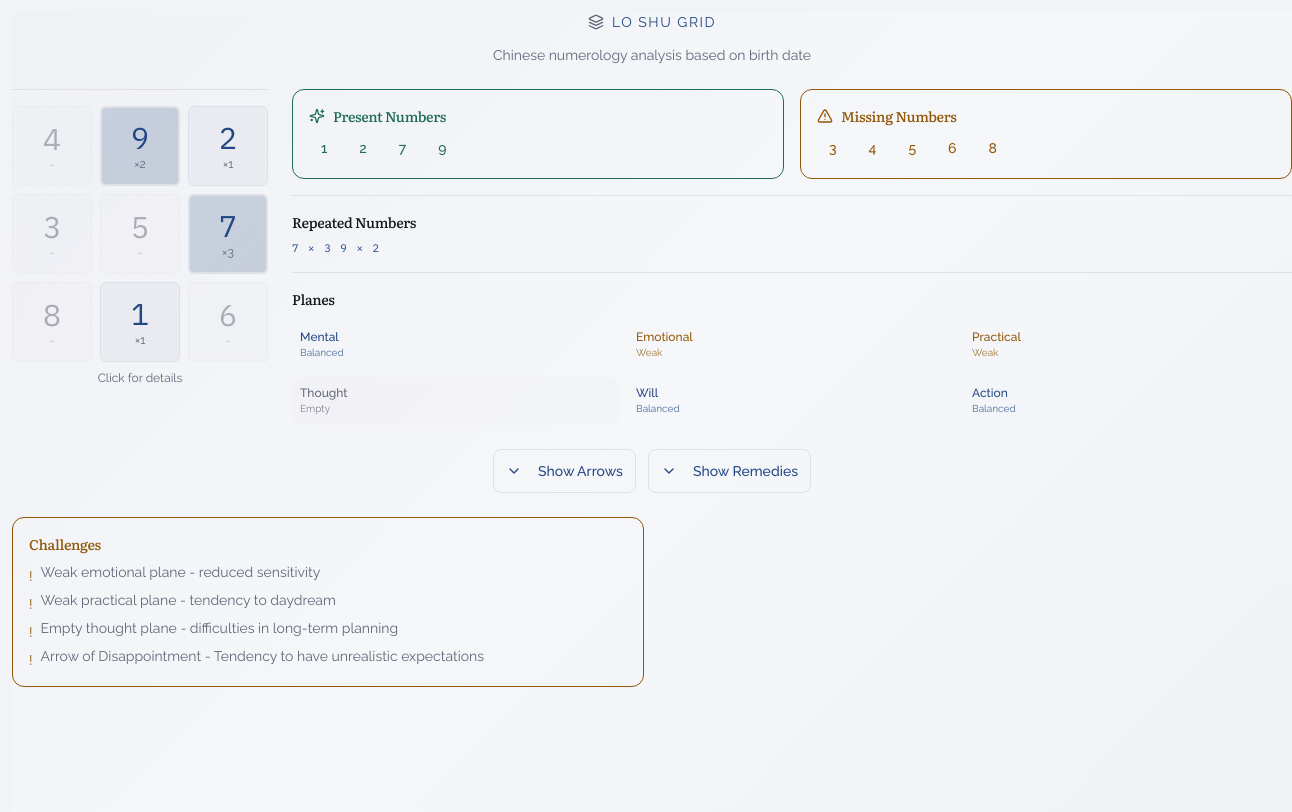
LoShuGrid › arată înțelesul cifrei la clic, nu doar un inel
This screenshot has width=1292, height=812.
Click the button "7 ×3": click(228, 234) [188,194,268,274]
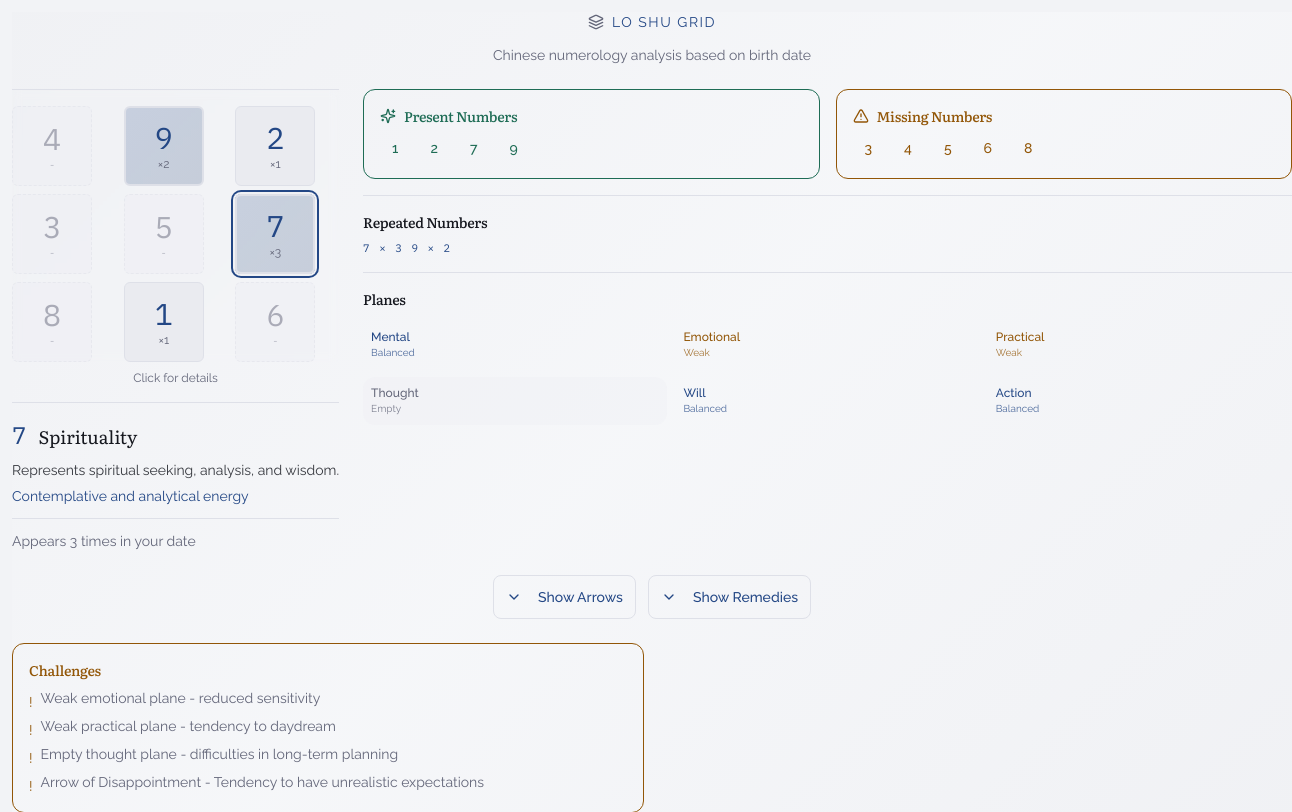
Now the element that starts with "Spirituality" is shown, box [12,402,339,551]
Now the element that starts with "Spirituality" shows "Represents spiritual seeking, analysis, and wisdom.", box [12,462,339,478]
